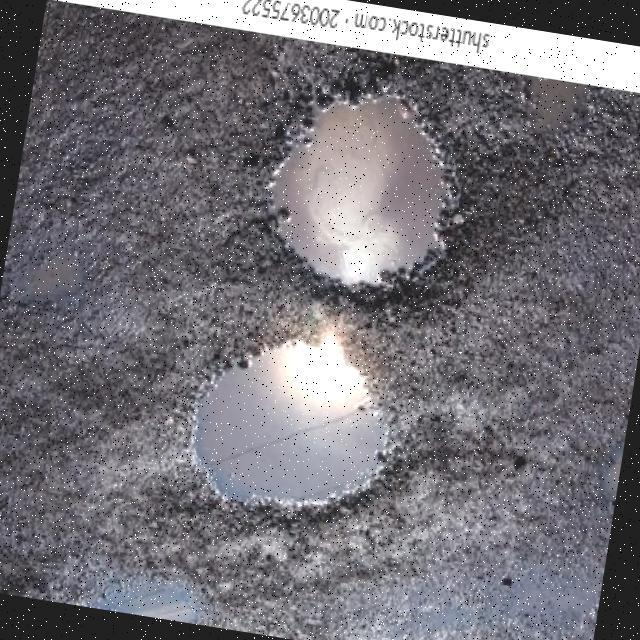Pothole: (270, 94, 450, 286), (194, 334, 387, 504)
